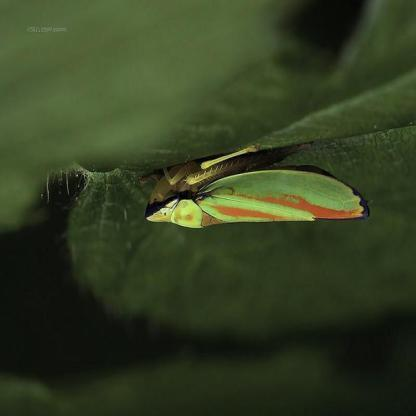green-leafhopper: (140, 152, 369, 236)
